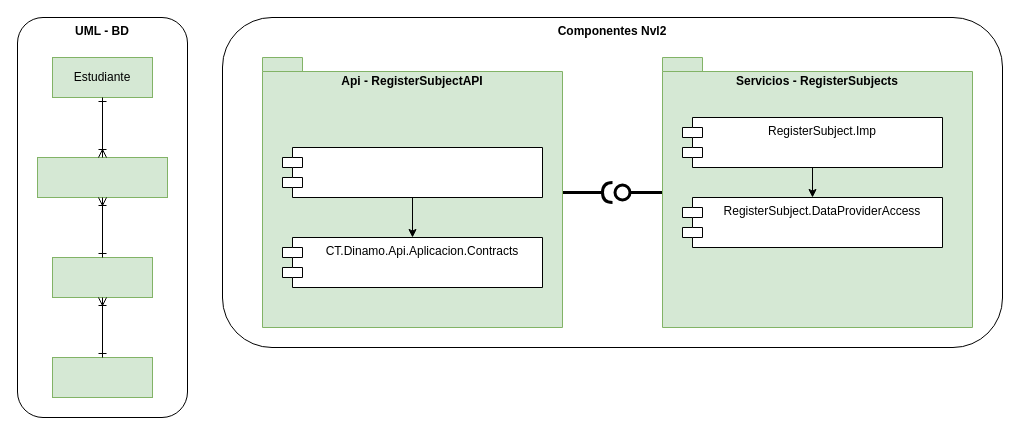
The diagram is 1020 pixels wide and 435 high, and some of its shapes have lost their labels. The centre of each missing label's shape, as x and y in pixels:
AsignacionEstudiantil: point 102,177
CT.Dinamo.Api.Aplicacion: point 412,172
Profesor: point 102,377
Programa: point 102,277
